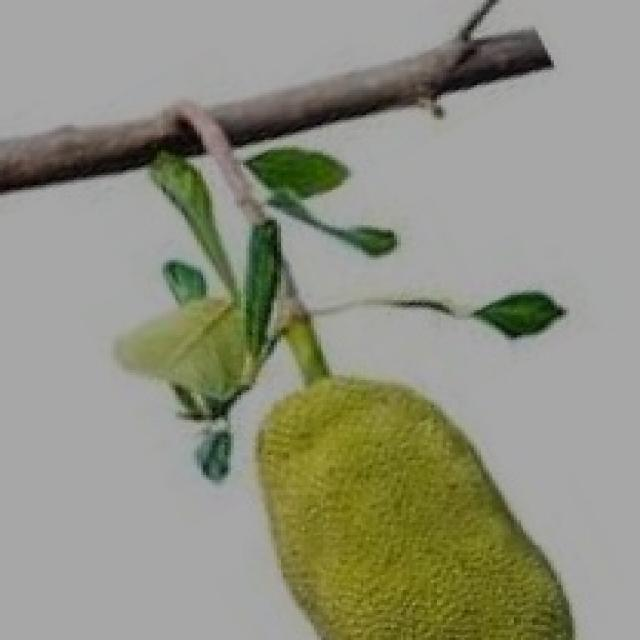Fruit: (228, 345, 612, 640)
